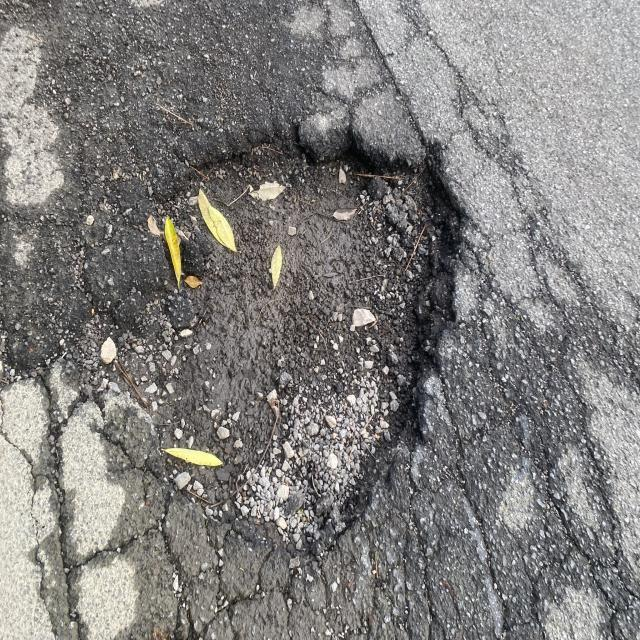Pothole: (130, 107, 560, 633)
